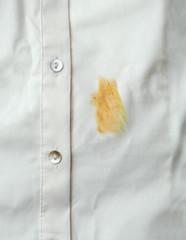gun: (87, 73, 131, 137)
